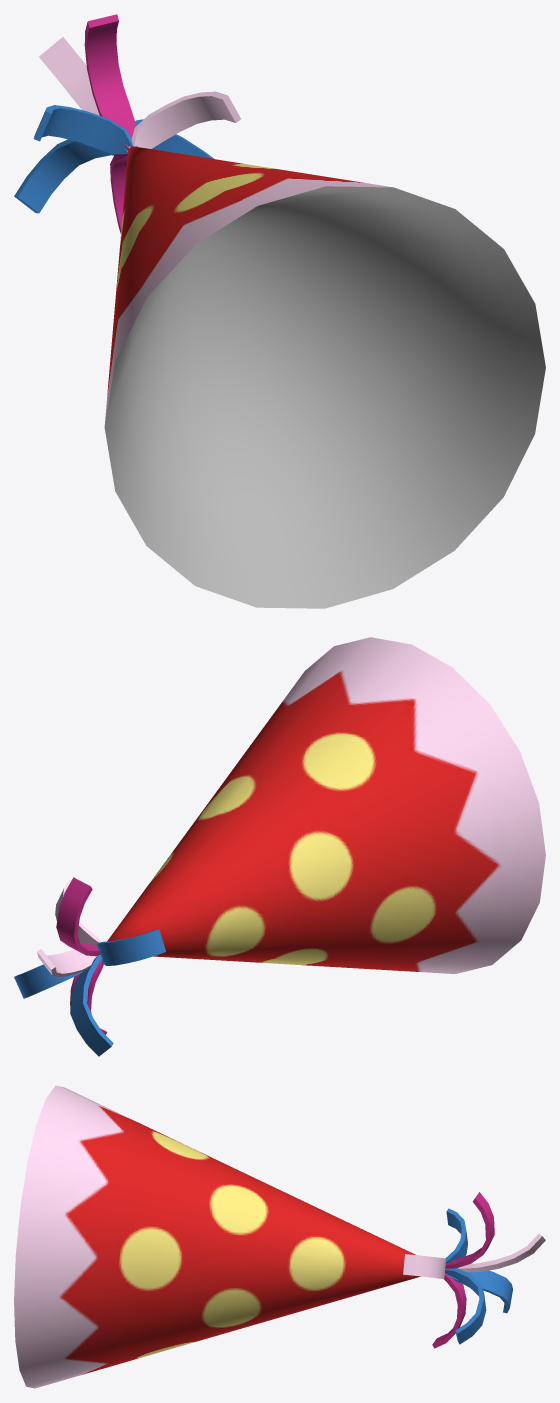
Rendered from pm0001_00_fushigidane_pokemonday2020_hat.fbx.
3 renders of one model, top to bottom at view 1: azimuth 30°, elevation 25°; view 2: azimuth 150°, elevation 25°; view 3: azimuth 270°, elevation 25°, orthographic. The views are drawn at different scales.
Parts seen in each view (by area): view 1: pokemonday2020; view 2: pokemonday2020; view 3: pokemonday2020.
Boxes of the visible parts, x1,y1,x2,y2 form: pokemonday2020: (14,14,545,608); pokemonday2020: (14,637,545,1056); pokemonday2020: (14,1085,545,1388).
Bounding box in the file's own units: 0.1818 × 0.1806 × 0.3133.
1 material, 1 textured.
